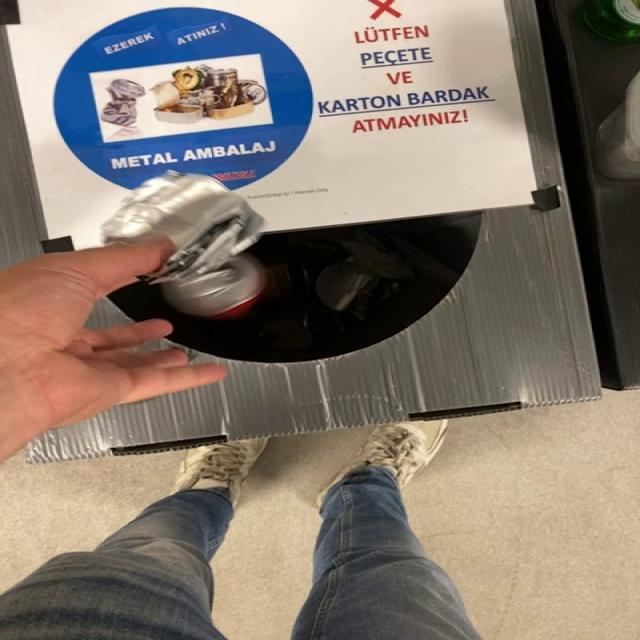Bin: (0, 0, 600, 463)
Metal: (161, 253, 267, 318)
